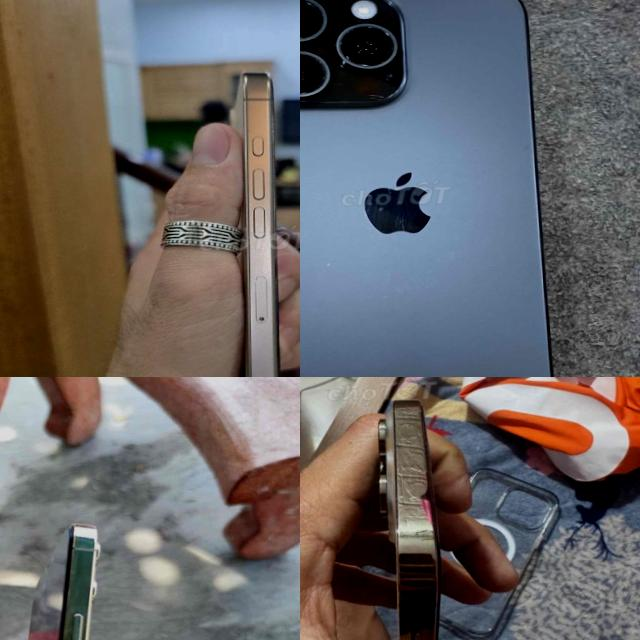gen_12_13: (0, 523, 109, 640)
gen_14: (362, 383, 481, 640)
gen_15: (300, 0, 573, 377)
gen_16: (207, 57, 300, 377)
